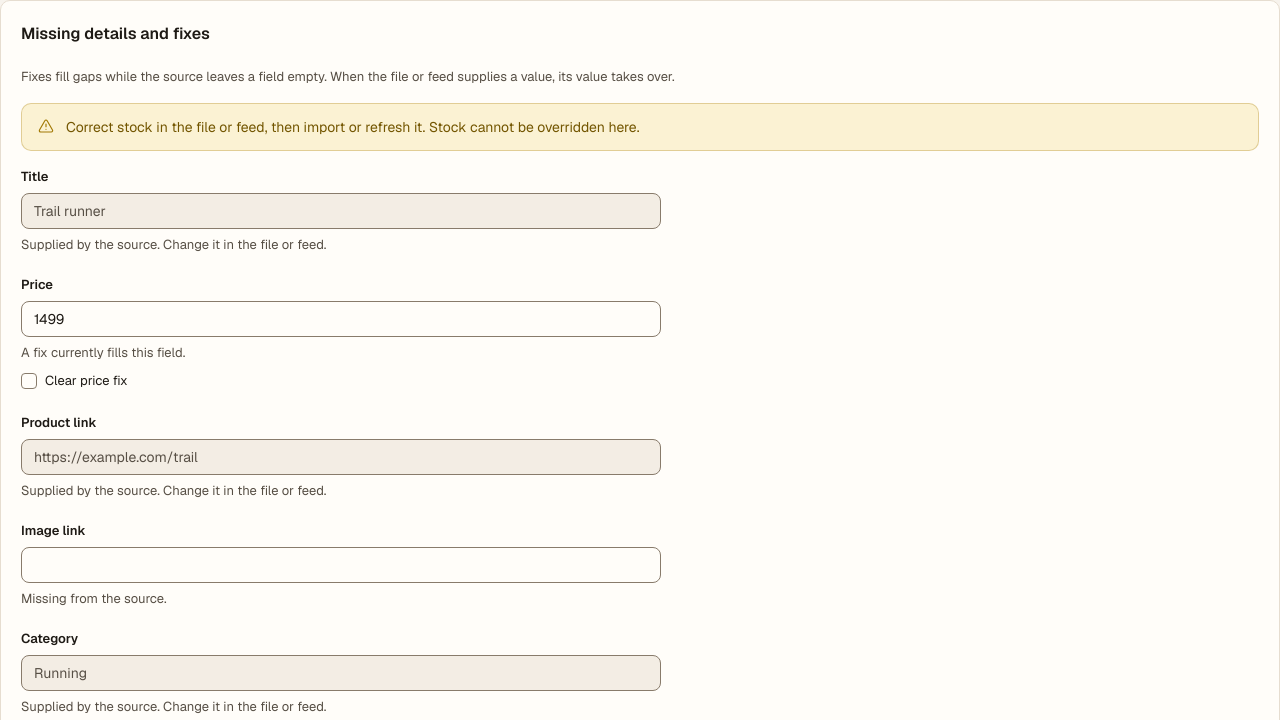
Test: an existing fix can be cleared and approvers have no save controls
The image size is (1280, 720).
Click the checkbox labelled "Clear price fix" at {"x": 29, "y": 381}, box [21,373,37,389]
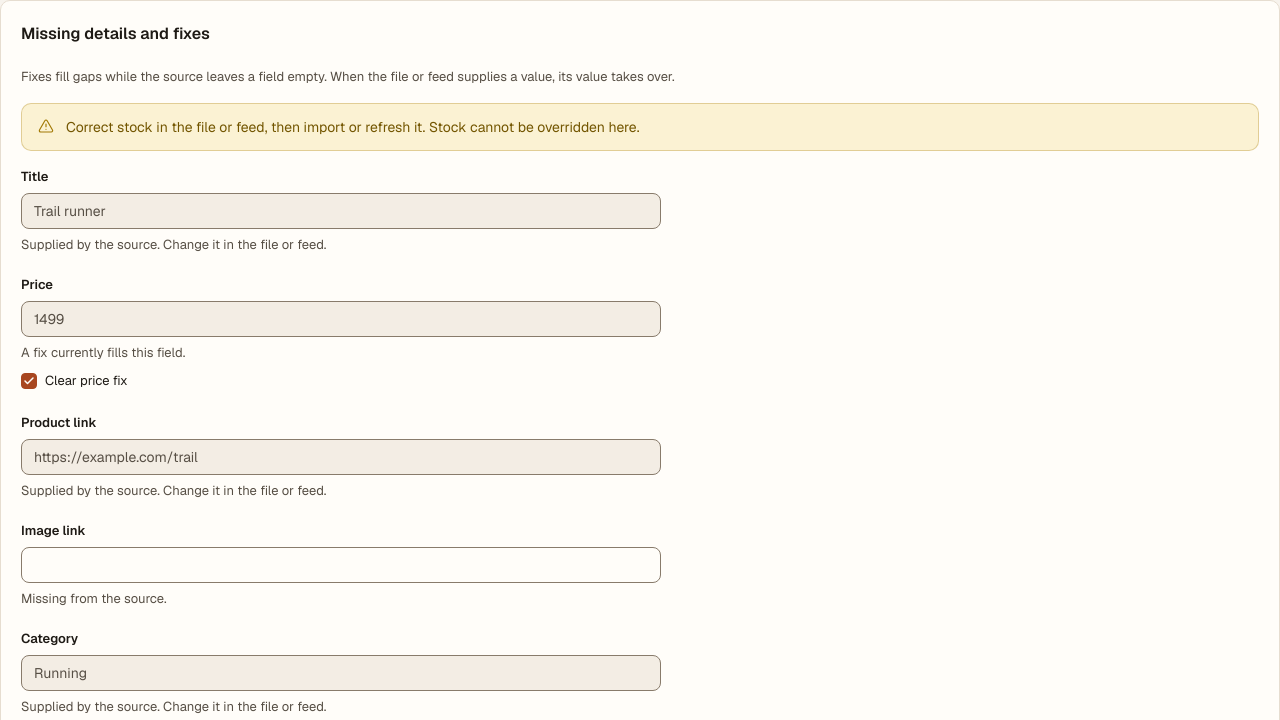
Result: the number field labelled "Price" is disabled at [21,301,661,337]
